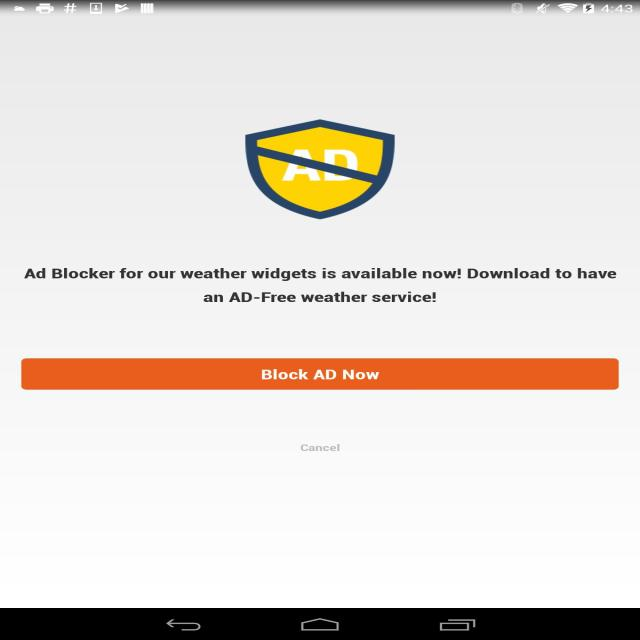button: (22, 358, 620, 390), (288, 438, 355, 457)
image: (234, 118, 400, 222)
text: (22, 266, 620, 307)
